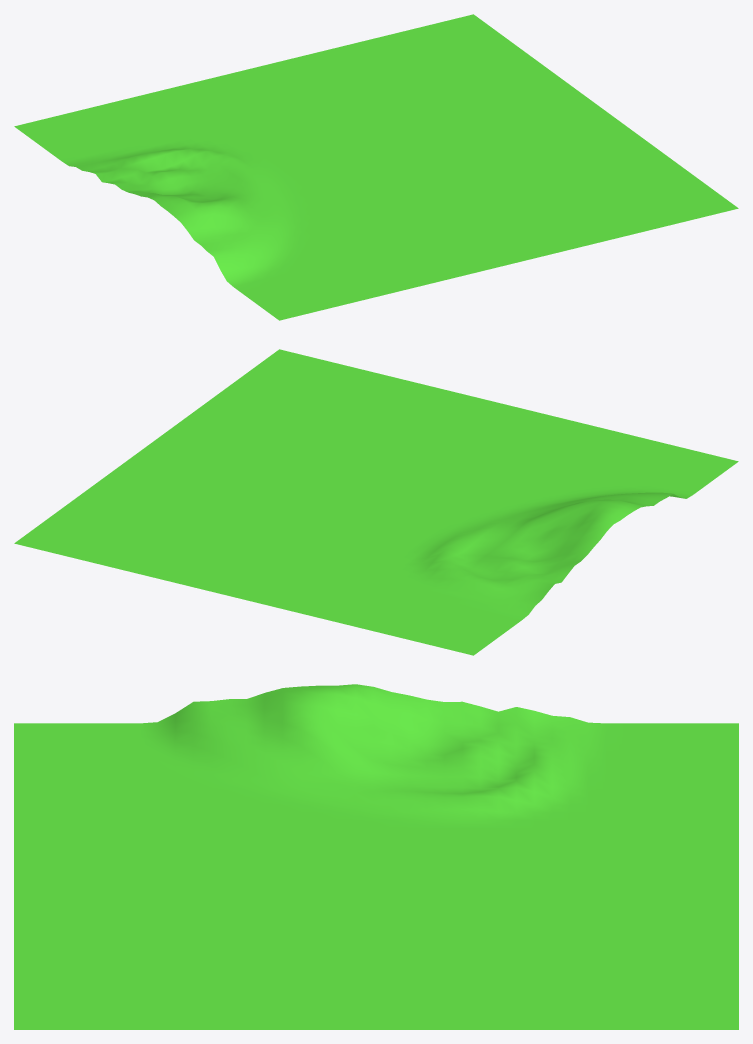
The model's file is tile_300_0.glb.
The picture shows the model from 3 angles, top to bottom: view 1: azimuth 30°, elevation 25°; view 2: azimuth 150°, elevation 25°; view 3: azimuth 270°, elevation 25°; orthographic projection. The views are drawn at different scales.
Parts seen in each view (by area): view 1: tile_300_0; view 2: tile_300_0; view 3: tile_300_0.
Boxes of the visible parts, bbox=[...] form: tile_300_0: bbox=[14, 14, 738, 320]; tile_300_0: bbox=[14, 349, 738, 655]; tile_300_0: bbox=[14, 684, 738, 1029].
Bounding box in the file's own units: 100 × 6.49 × 100.
